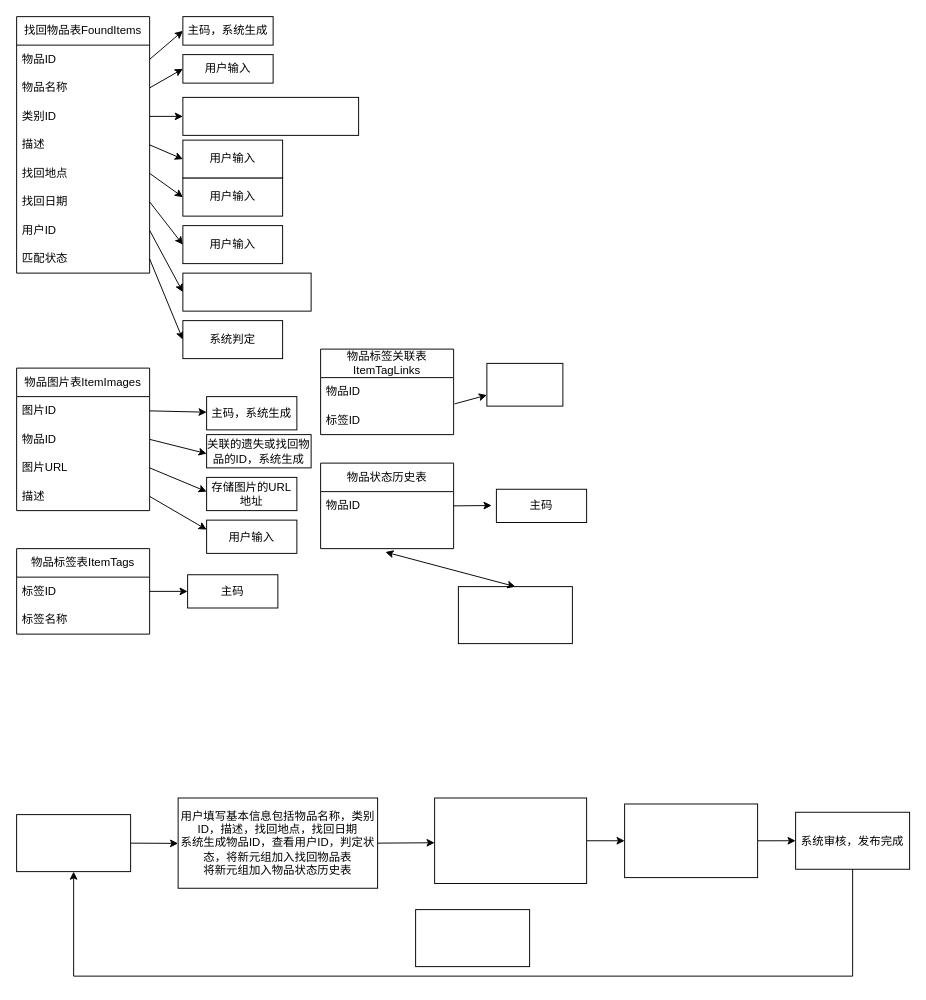
The diagram is 926 pixels wide and 1000 high, and some of its shapes have lost their labels. Here are the shapes that lost their labels. From the top down, the centre of each, then its label:
At (270,115): "外码，关联到 `ItemCategories`表。用户选择".
At (246,291): "外码，关联到 `Users`表，系统判定".
At (524,384): "合在一起是主码，由用户选择".
At (514,615): "是否需要".
At (73,843): "用户发布无主物品信息（先注册或登录）".
At (510,840): "用户继续添加图片，输入描述 系统生成图片ID，并查看已生成的物品ID，和图片URL，将一些新元组加入物品图片表".
At (691,840): "用户从物品标签表中继续选择标签，系统按照用户选择，将一些新元组加入物品标签关联表".
At (472,938): "审核不通过".
